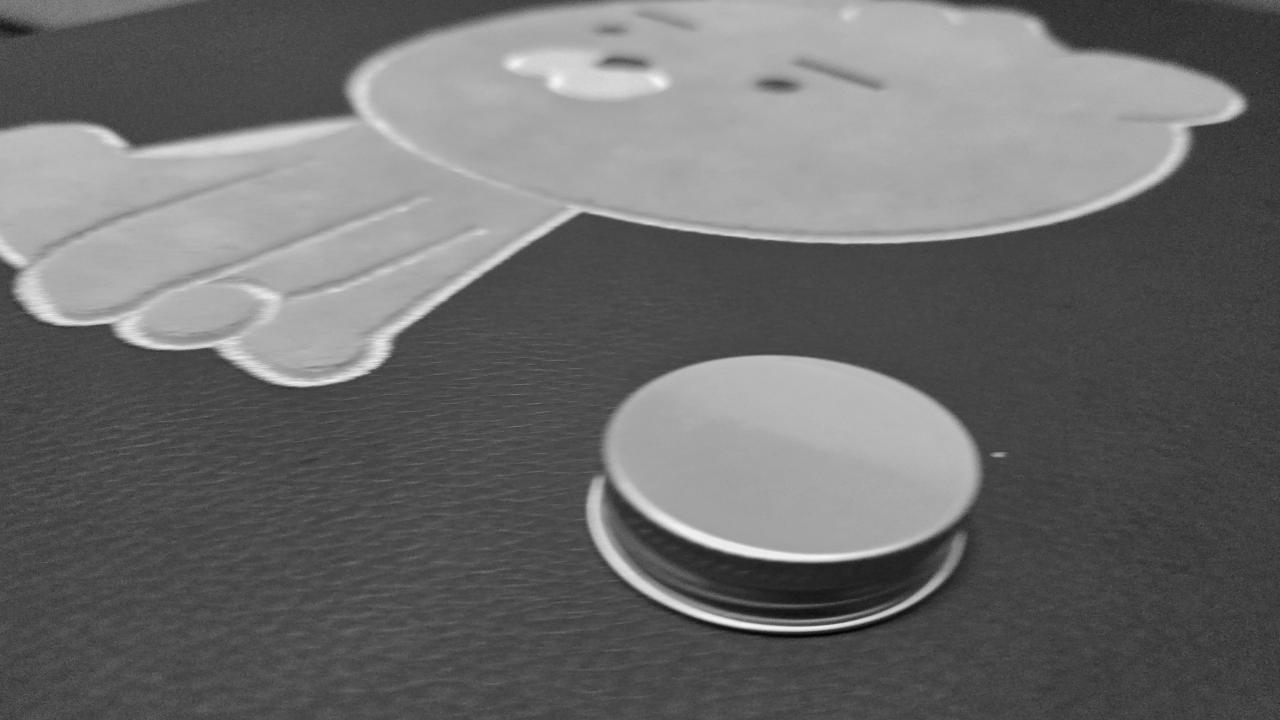bottle_cap: (590, 355, 976, 634)
